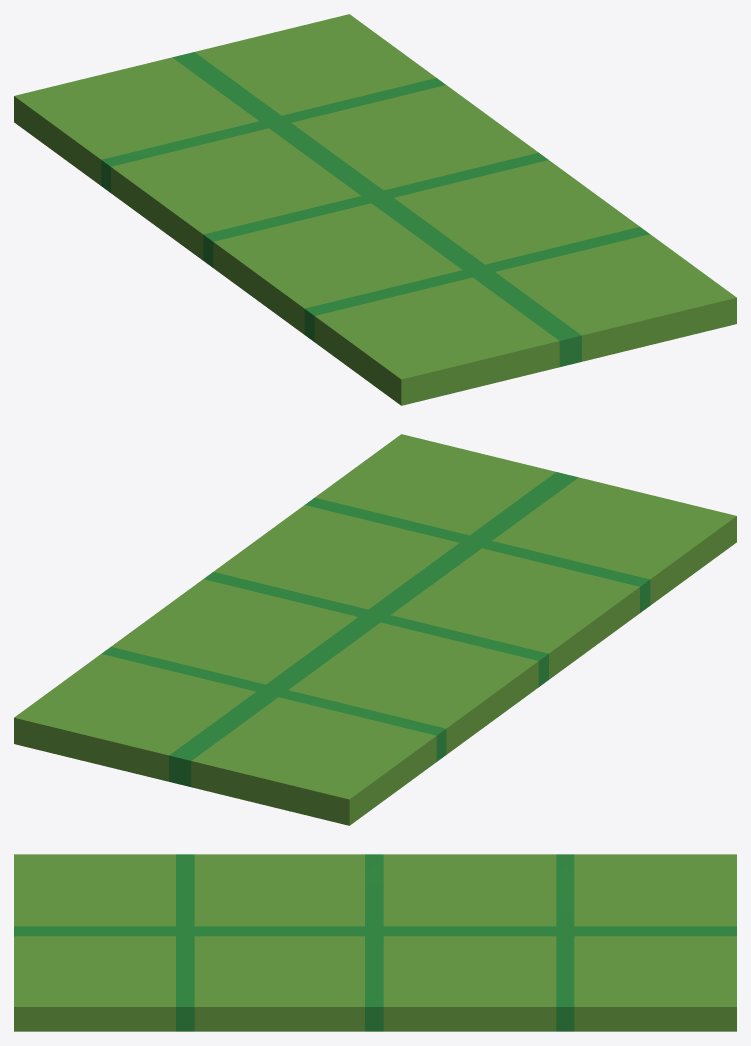
The model's file is dem duong 2.fbx.
3 views of the same model, one above another, from view 1: azimuth 30°, elevation 25°; view 2: azimuth 150°, elevation 25°; view 3: azimuth 270°, elevation 25° (orthographic). The views are drawn at different scales.
Visible parts, largest first — view 1: dem_duong2; view 2: dem_duong2; view 3: dem_duong2.
Part boxes in pixels (x1=…): dem_duong2: x1=14, y1=14, x2=736, y2=405; dem_duong2: x1=14, y1=434, x2=736, y2=825; dem_duong2: x1=14, y1=854, x2=736, y2=1031.
Size of the model in its own units: 20 by 1.5 by 40.
Materials: 1 (1 with a texture image).
